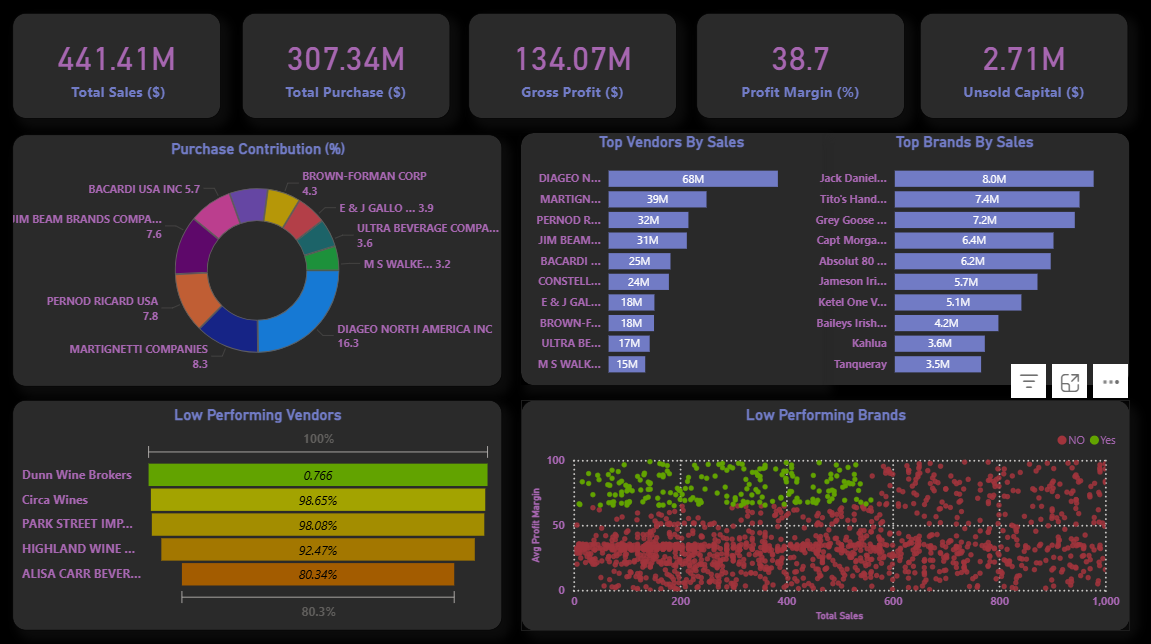

The page's visual inventory and layout, read from the dashboard file:
{"tool":"powerbi","page":{"name":"Page 1","canvas":[1280,720],"ordinal":0},"visuals":[{"type":"shape","box":[580.7,150.3,676.2,280.2],"z":0},{"type":"card","fields":{"Values":["Sum(vendor_sales_summary.TotalSalesDollars)"]},"box":[15.7,17.2,231.7,117.4],"z":1000},{"type":"card","fields":{"Values":["Sum(vendor_sales_summary.UnsoldCapital)"]},"box":[1023.7,17.2,231.7,117.4],"z":2000},{"type":"card","fields":{"Values":["Avg(vendor_sales_summary.ProfitMargin)"]},"box":[774.8,17.2,231.7,117.4],"z":3000},{"type":"card","fields":{"Values":["Sum(vendor_sales_summary.GrossProfit)"]},"box":[521.2,17.2,231.7,117.4],"z":4000},{"type":"card","fields":{"Values":["Sum(vendor_sales_summary.TotalPurchaseDollars)"]},"box":[269.2,17.2,231.7,117.4],"z":5000},{"type":"donutChart","title":"Purchase Contribution (%)","fields":{"Category":["PurchaseContribution.VendorName"],"Y":["Sum(PurchaseContribution.PurchaseContribution%)"]},"box":[15.2,150.9,544.2,279.7],"z":6000},{"type":"barChart","title":"Top  Vendors By Sales","fields":{"Category":["vendor_sales_summary.VendorName"],"Y":["Sum(vendor_sales_summary.TotalSalesDollars)"]},"box":[580.7,150.3,335,280.2],"z":7000},{"type":"barChart","title":"Top Brands By Sales","fields":{"Category":["vendor_sales_summary.Description"],"Y":["Sum(vendor_sales_summary.TotalSalesDollars)"]},"box":[890.6,150.3,366.3,280.2],"z":8000},{"type":"funnel","title":"Low Performing Vendors","fields":{"Category":["LowTurnoverVendor.VendorName"],"Y":["Avg(LowTurnoverVendor.AvgStockTurnover)"]},"box":[15.2,447.2,544.2,256.2],"z":9000},{"type":"scatterChart","title":"Low Performing Brands","fields":{"Category":["BrandPerformance.Description"],"X":["Sum(BrandPerformance.TotalSales)"],"Y":["Sum(BrandPerformance.AvgProfitMargin)"],"Series":["BrandPerformance.TargetBrand"]},"box":[580,446.7,676.7,256.7],"z":10000}]}

Visuals, with their boxes in screenshot pixels (x1, y1, x2, y2), scaled from the page's 1280x720 canvas onto the 1151x644 screenshot:
shape: rect(522, 134, 1130, 385)
card - Sum(vendor_sales_summary.TotalSalesDollars): rect(14, 15, 222, 120)
card - Sum(vendor_sales_summary.UnsoldCapital): rect(921, 15, 1129, 120)
card - Avg(vendor_sales_summary.ProfitMargin): rect(697, 15, 905, 120)
card - Sum(vendor_sales_summary.GrossProfit): rect(469, 15, 677, 120)
card - Sum(vendor_sales_summary.TotalPurchaseDollars): rect(242, 15, 450, 120)
"Purchase Contribution (%)" donutChart: rect(14, 135, 503, 385)
"Top  Vendors By Sales" barChart: rect(522, 134, 823, 385)
"Top Brands By Sales" barChart: rect(801, 134, 1130, 385)
"Low Performing Vendors" funnel: rect(14, 400, 503, 629)
"Low Performing Brands" scatterChart: rect(522, 400, 1130, 629)
